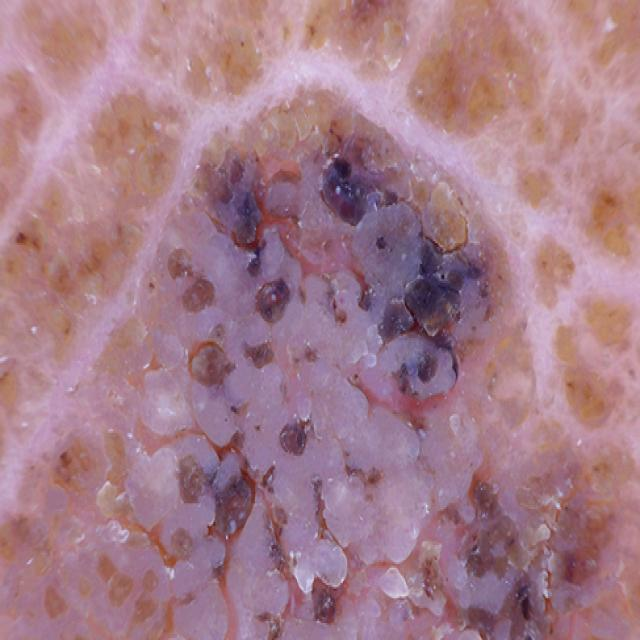Keratosis: (111, 182, 542, 640), (490, 67, 640, 384), (453, 507, 640, 640), (0, 535, 135, 640)
